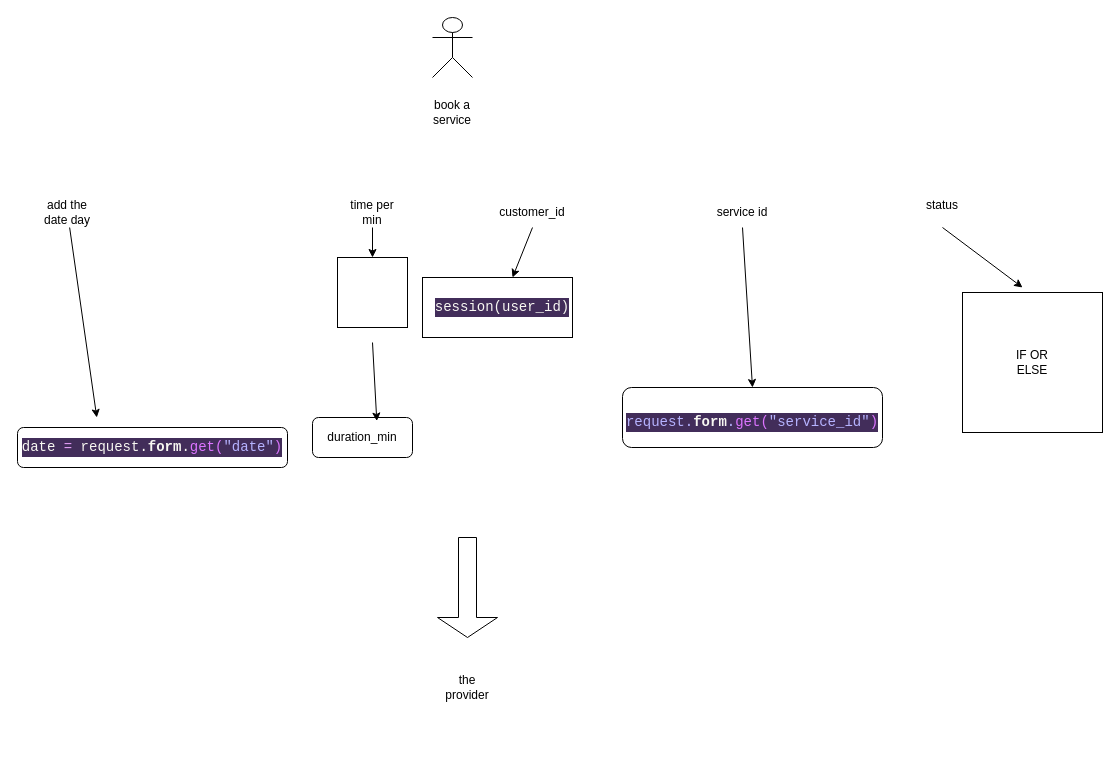
Image size: 1120x765. Some labels were removed from this diagram. Here are the shapes that lost their labels. From the top down, the box of each, then its label:
(432, 16, 472, 78): Actor
(336, 256, 408, 328): service
